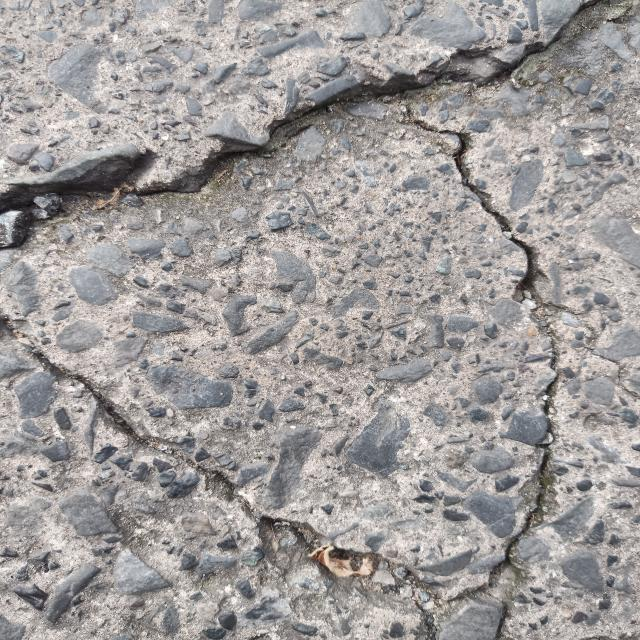branched cracks: (192, 100, 556, 639), (0, 0, 639, 249)
